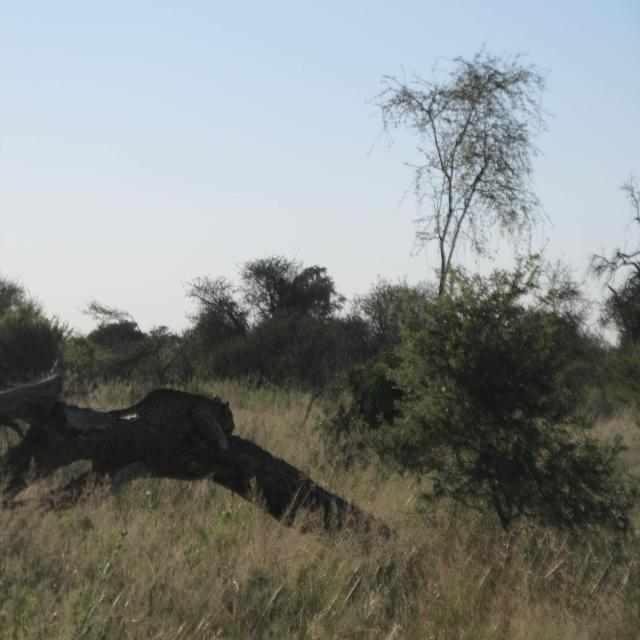Leopard: (100, 385, 230, 473)
